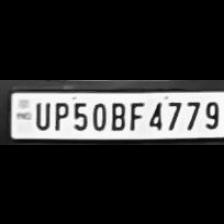0: (89, 99, 107, 130)
4: (144, 98, 164, 130)
5: (69, 98, 89, 130)
7: (163, 98, 181, 130), (182, 98, 200, 130)
9: (200, 98, 220, 130)
B: (108, 99, 126, 130)
F: (126, 99, 144, 130)
P: (50, 98, 68, 130)
U: (32, 98, 50, 130)
